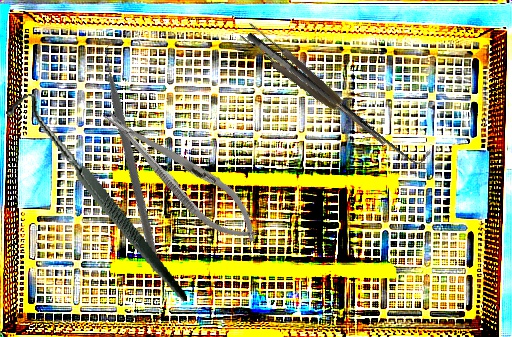Chopper: (17, 33, 256, 273)
Hook Surgical: (3, 72, 188, 328), (243, 18, 434, 176)
Needle Holder: (90, 94, 273, 257)
Tissue Forceps: (237, 19, 392, 155)
